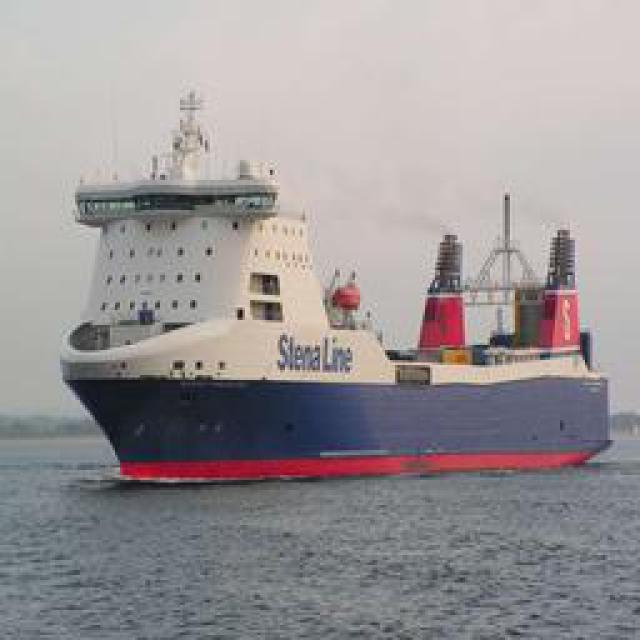Ship: (61, 192, 596, 480)
